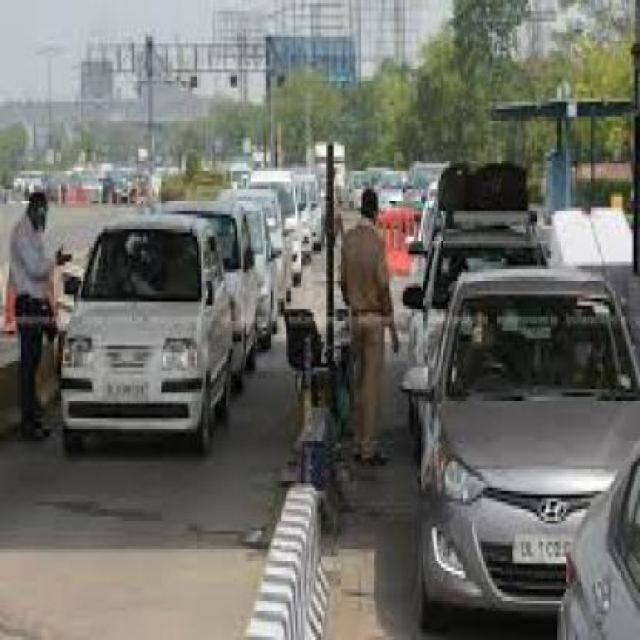vehicle: (402, 266, 638, 608), (55, 217, 236, 454)
